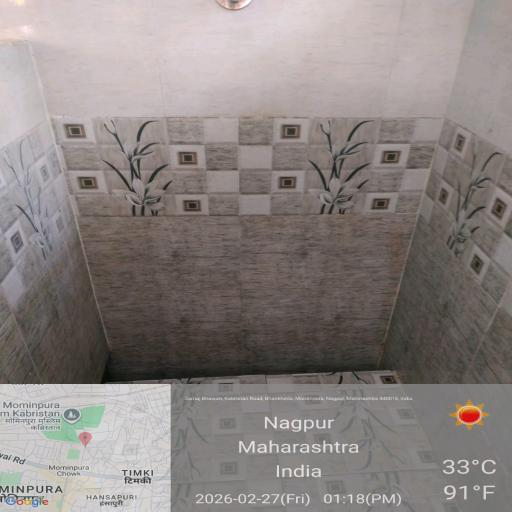clean_floor: (31, 27, 443, 305), (33, 320, 441, 512)
